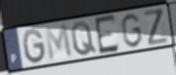E: (93, 13, 121, 57)
G: (21, 28, 47, 66), (120, 13, 144, 50)
M: (43, 22, 74, 63)
Q: (69, 20, 98, 57)
Z: (142, 7, 170, 48)
